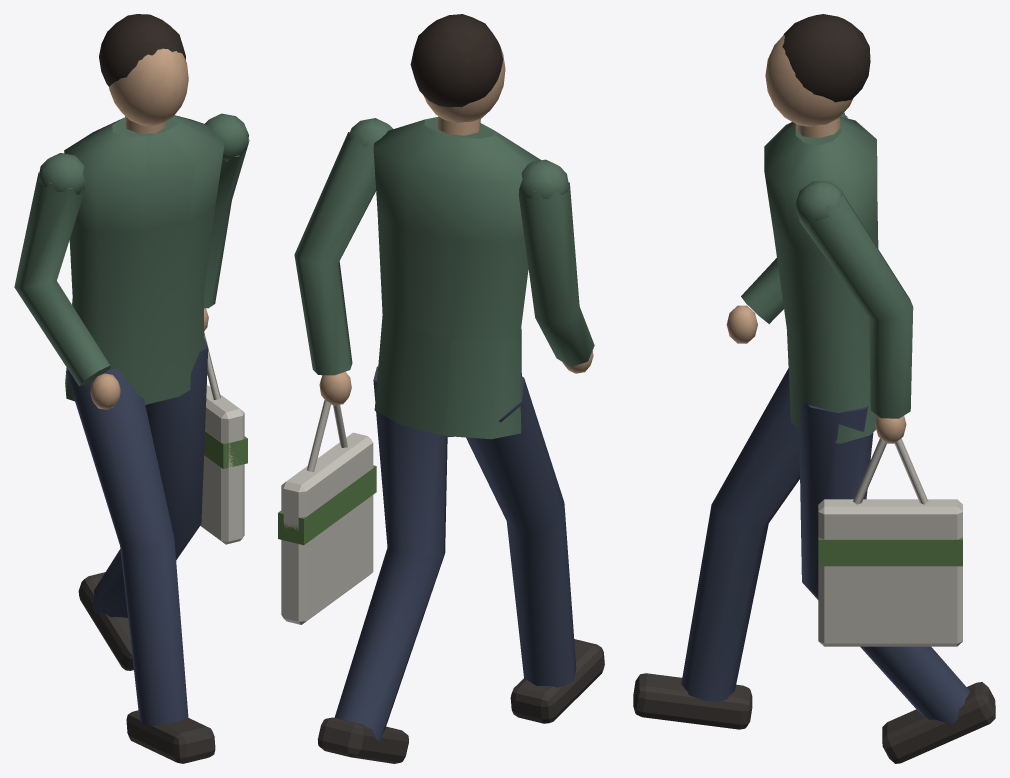
File: people_walker_01.glb
3 renders of one model, left to right at view 1: azimuth 30°, elevation 25°; view 2: azimuth 150°, elevation 25°; view 3: azimuth 270°, elevation 25°, orthographic. The views are drawn at different scales.
Parts seen in each view (by area): view 1: people_walker_01; view 2: people_walker_01; view 3: people_walker_01.
Boxes of the visible parts, x1,y1,x2,y2 form: people_walker_01: (14,14,249,763); people_walker_01: (278,14,604,763); people_walker_01: (633,14,995,763).
Bounding box in the file's own units: 0.595 × 1.65 × 0.7506.
